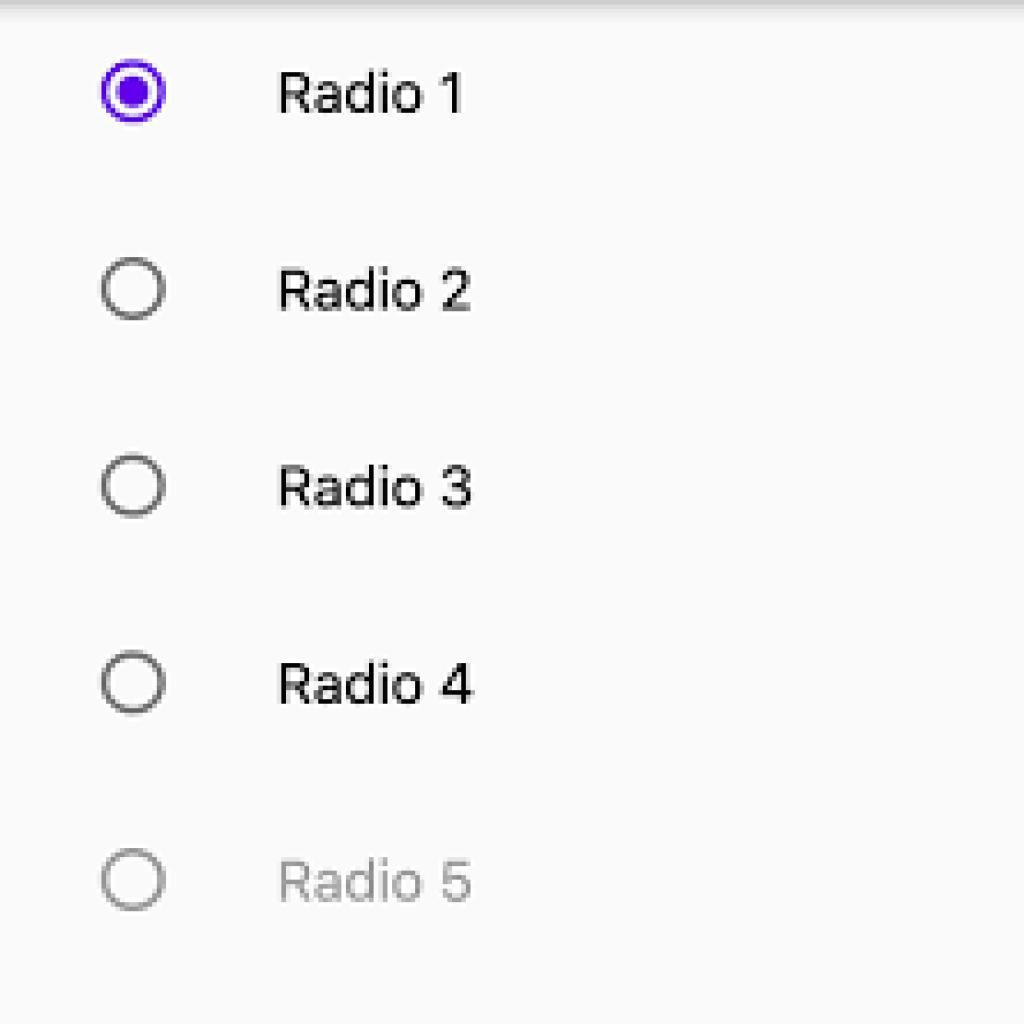label: (275, 260, 481, 321), (277, 458, 476, 520), (275, 851, 479, 911), (274, 654, 481, 711), (274, 64, 467, 121)
radio: (96, 645, 171, 718), (96, 57, 171, 128), (98, 843, 170, 916), (95, 450, 167, 519), (97, 254, 168, 321)
